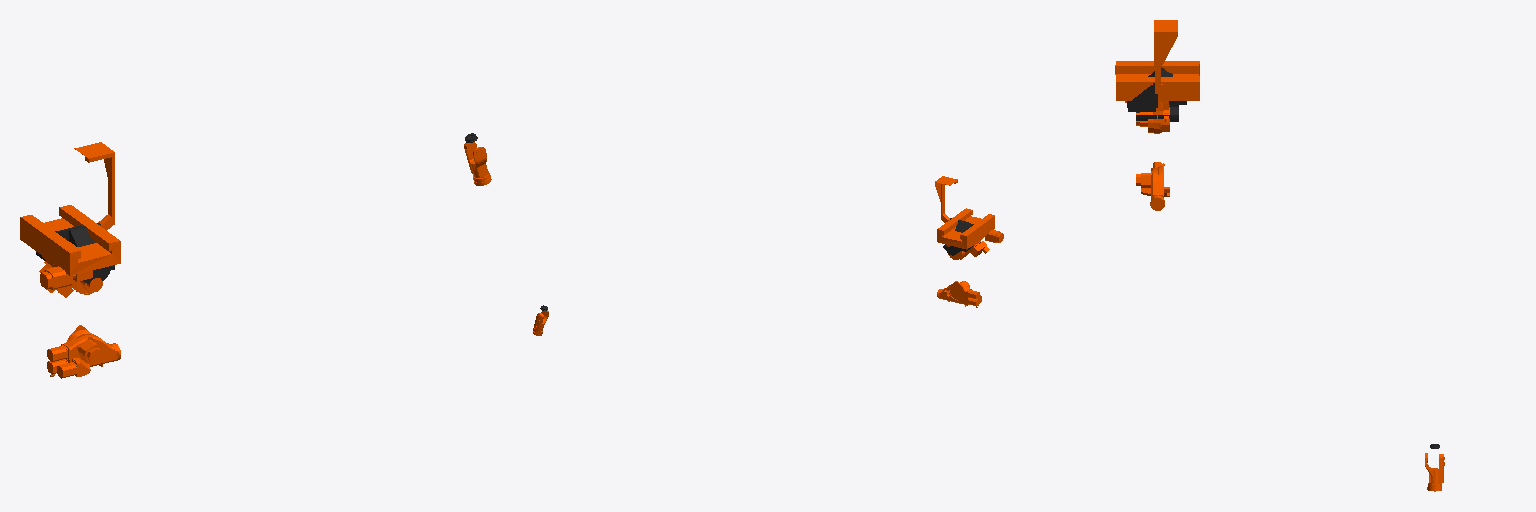
The robot description file, URDF, robot "kuka_kr_60_jet_clg":
<?xml version="1.0"?>
<robot name="kuka_kr_60_jet_clg">
  <material name="kuka_orange"><color rgba="1.00 0.40 0.00 1.0"/></material>
  <material name="kuka_dark_gray"><color rgba="0.20 0.20 0.20 1.0"/></material>

  <link name="base_link">
    <inertial>
      <origin xyz="-0.061132 0.000000 0.299208" rpy="0 0 0"/>
      <mass value="106.667"/>
      <inertia ixx="3.362297" ixy="0.525567" ixz="0.291489" iyy="2.960047" iyz="0.000000" izz="3.063789"/>
    </inertial>
    <visual>
      <origin xyz="0 0 0" rpy="0 0 0"/>
      <geometry><mesh filename="meshes/visual/base_link.stl"/></geometry>
      <material name="kuka_dark_gray"/>
    </visual>
    <collision>
      <origin xyz="0 0 0" rpy="0 0 0"/>
      <geometry><mesh filename="meshes/visual/base_link.stl"/></geometry>
    </collision>
  </link>

  <link name="link_1">
    <inertial>
      <origin xyz="-0.117509 -0.023209 0.392207" rpy="0 0 0"/>
      <mass value="80.700"/>
      <inertia ixx="8.012950" ixy="-0.593521" ixz="-1.683156" iyy="8.739444" iyz="-0.678484" izz="5.492557"/>
    </inertial>
    <visual>
      <origin xyz="0 0 0" rpy="0 0 0"/>
      <geometry><mesh filename="meshes/visual/link_1.stl"/></geometry>
      <material name="kuka_orange"/>
    </visual>
    <collision>
      <origin xyz="0 0 0" rpy="0 0 0"/>
      <geometry><mesh filename="meshes/visual/link_1.stl"/></geometry>
    </collision>
  </link>

  <link name="link_2">
    <inertial>
      <origin xyz="-0.001460 0.210144 -0.489117" rpy="0 0 0"/>
      <mass value="405.000"/>
      <inertia ixx="32.224008" ixy="-0.006017" ixz="0.087670" iyy="32.178672" iyz="-2.334463" izz="4.796299"/>
    </inertial>
    <visual>
      <origin xyz="0 0 0" rpy="0 0 0"/>
      <geometry><mesh filename="meshes/visual/link_2.stl"/></geometry>
      <material name="kuka_orange"/>
    </visual>
    <collision>
      <origin xyz="0 0 0" rpy="0 0 0"/>
      <geometry><mesh filename="meshes/visual/link_2.stl"/></geometry>
    </collision>
  </link>

  <link name="link_3">
    <inertial>
      <origin xyz="-0.055306 -0.040088 -0.068783" rpy="0 0 0"/>
      <mass value="151.900"/>
      <inertia ixx="2.001578" ixy="-0.262002" ixz="-0.085758" iyy="5.153598" iyz="-0.059276" izz="4.901260"/>
    </inertial>
    <visual>
      <origin xyz="0 0 0" rpy="0 0 0"/>
      <geometry><mesh filename="meshes/visual/link_3.stl"/></geometry>
      <material name="kuka_orange"/>
    </visual>
    <collision>
      <origin xyz="0 0 0" rpy="0 0 0"/>
      <geometry><mesh filename="meshes/visual/link_3.stl"/></geometry>
    </collision>
  </link>

  <link name="link_4">
    <inertial>
      <origin xyz="6.488185 3.510404 -0.706429" rpy="0 0 0"/>
      <mass value="49.800"/>
      <inertia ixx="0.788757" ixy="-0.007446" ixz="0.124843" iyy="0.686898" iyz="0.031414" izz="0.363786"/>
    </inertial>
    <visual>
      <origin xyz="0 0 0" rpy="0 0 0"/>
      <geometry><mesh filename="meshes/visual/link_4.stl"/></geometry>
      <material name="kuka_orange"/>
    </visual>
    <collision>
      <origin xyz="0 0 0" rpy="0 0 0"/>
      <geometry><mesh filename="meshes/visual/link_4.stl"/></geometry>
    </collision>
  </link>

  <link name="link_5">
    <inertial>
      <origin xyz="6.032443 3.486948 -0.497473" rpy="0 0 0"/>
      <mass value="38.200"/>
      <inertia ixx="0.196880" ixy="0.003862" ixz="0.010567" iyy="0.192587" iyz="-0.015392" izz="0.159603"/>
    </inertial>
    <visual>
      <origin xyz="0 0 0" rpy="0 0 0"/>
      <geometry><mesh filename="meshes/visual/link_5.stl"/></geometry>
      <material name="kuka_orange"/>
    </visual>
    <collision>
      <origin xyz="0 0 0" rpy="0 0 0"/>
      <geometry><mesh filename="meshes/visual/link_5.stl"/></geometry>
    </collision>
  </link>

  <link name="link_6">
    <inertial>
      <origin xyz="5.831967 3.502628 -0.382645" rpy="0 0 0"/>
      <mass value="20.400"/>
      <inertia ixx="0.038687" ixy="-0.000047" ixz="-0.003486" iyy="0.039664" iyz="-0.000013" izz="0.050614"/>
    </inertial>
    <visual>
      <origin xyz="0 0 0" rpy="0 0 0"/>
      <geometry><mesh filename="meshes/visual/link_6.stl"/></geometry>
      <material name="kuka_dark_gray"/>
    </visual>
    <collision>
      <origin xyz="0 0 0" rpy="0 0 0"/>
      <geometry><mesh filename="meshes/visual/link_6.stl"/></geometry>
    </collision>
  </link>

  <link name="tool0"/>

  <joint name="joint_a1" type="revolute">
    <parent link="base_link"/>
    <child link="link_1"/>
    <origin xyz="0.000000 0.000000 0.000000" rpy="0 0 0"/>
    <axis xyz="-0.0 0.0 -1.0"/>
    <limit lower="-62.831853" upper="62.831853" effort="5000.0" velocity="19.634954"/>
    <dynamics damping="5.0" friction="1.0"/>
  </joint>

  <joint name="joint_a2" type="revolute">
    <parent link="link_1"/>
    <child link="link_2"/>
    <origin xyz="0.000000 0.000000 0.000000" rpy="0 0 0"/>
    <axis xyz="-0.0 -1.0 0.0"/>
    <limit lower="-1.570796" upper="1.570796" effort="4250.0" velocity="2.264211"/>
    <dynamics damping="5.0" friction="1.0"/>
  </joint>

  <joint name="joint_a3" type="revolute">
    <parent link="link_2"/>
    <child link="link_3"/>
    <origin xyz="0.000000 -0.000000 -0.850000" rpy="0 0 0"/>
    <axis xyz="-0.0 -1.0 0.0"/>
    <limit lower="-3.665191" upper="1.186824" effort="4250.0" velocity="3.193581"/>
    <dynamics damping="5.0" friction="1.0"/>
  </joint>

  <joint name="joint_a4" type="revolute">
    <parent link="link_3"/>
    <child link="link_4"/>
    <origin xyz="0.420000 -0.000000 -0.145000" rpy="0 0 0"/>
    <axis xyz="-0.0 0.0 1.0"/>
    <limit lower="-6.108652" upper="6.108652" effort="300.0" velocity="5.511981"/>
    <dynamics damping="5.0" friction="1.0"/>
  </joint>

  <joint name="joint_a5" type="revolute">
    <parent link="link_4"/>
    <child link="link_5"/>
    <origin xyz="0.400000 -0.000000 0.000000" rpy="0 0 0"/>
    <axis xyz="0.0 -0.0 -1.0"/>
    <limit lower="-2.076942" upper="2.076942" effort="380.0" velocity="5.200084"/>
    <dynamics damping="5.0" friction="1.0"/>
  </joint>

  <joint name="joint_a6" type="revolute">
    <parent link="link_5"/>
    <child link="link_6"/>
    <origin xyz="0.170000 -0.000000 0.000000" rpy="0 0 0"/>
    <axis xyz="-0.0 0.0 1.0"/>
    <limit lower="-6.108652" upper="6.108652" effort="200.0" velocity="6.837075"/>
    <dynamics damping="5.0" friction="1.0"/>
  </joint>

  <joint name="link_6-tool0" type="fixed">
    <parent link="link_6"/>
    <child link="tool0"/>
    <origin xyz="0.000000 0.000000 0.000000" rpy="0 1.57079632679 0"/>
  </joint>
</robot>

--- Facts derived from the render (not from the file) ---
The picture shows the robot from 3 angles, left to right: view 1: azimuth 30°, elevation 25°; view 2: azimuth 150°, elevation 25°; view 3: azimuth 270°, elevation 25°; orthographic projection.
Robot: kuka_kr_60_jet_clg — 8 links, 7 joints (6 revolute, 1 fixed); root link base_link; default pose: all joints at 0.
Links seen in each view (by area): view 1: link_1, link_3, link_4, base_link; view 2: link_1, link_3; view 3: link_1, base_link, link_3.
Link boxes in pixels (bbox=[...]): link_1: bbox=[20, 142, 120, 297]; link_3: bbox=[47, 325, 120, 378]; link_4: bbox=[464, 142, 491, 185]; base_link: bbox=[36, 223, 114, 284]; link_1: bbox=[935, 176, 1003, 259]; link_3: bbox=[937, 281, 981, 307]; link_1: bbox=[1115, 20, 1199, 133]; base_link: bbox=[1127, 67, 1186, 121]; link_3: bbox=[1136, 162, 1169, 210].
Size in the robot's own frame: 7.76 by 4.16 by 3.34 metres.
5 mesh visuals loaded from 7 distinct referenced files (5 binary STL); not drawn: 2 (reference not matched to a file when rendering).
